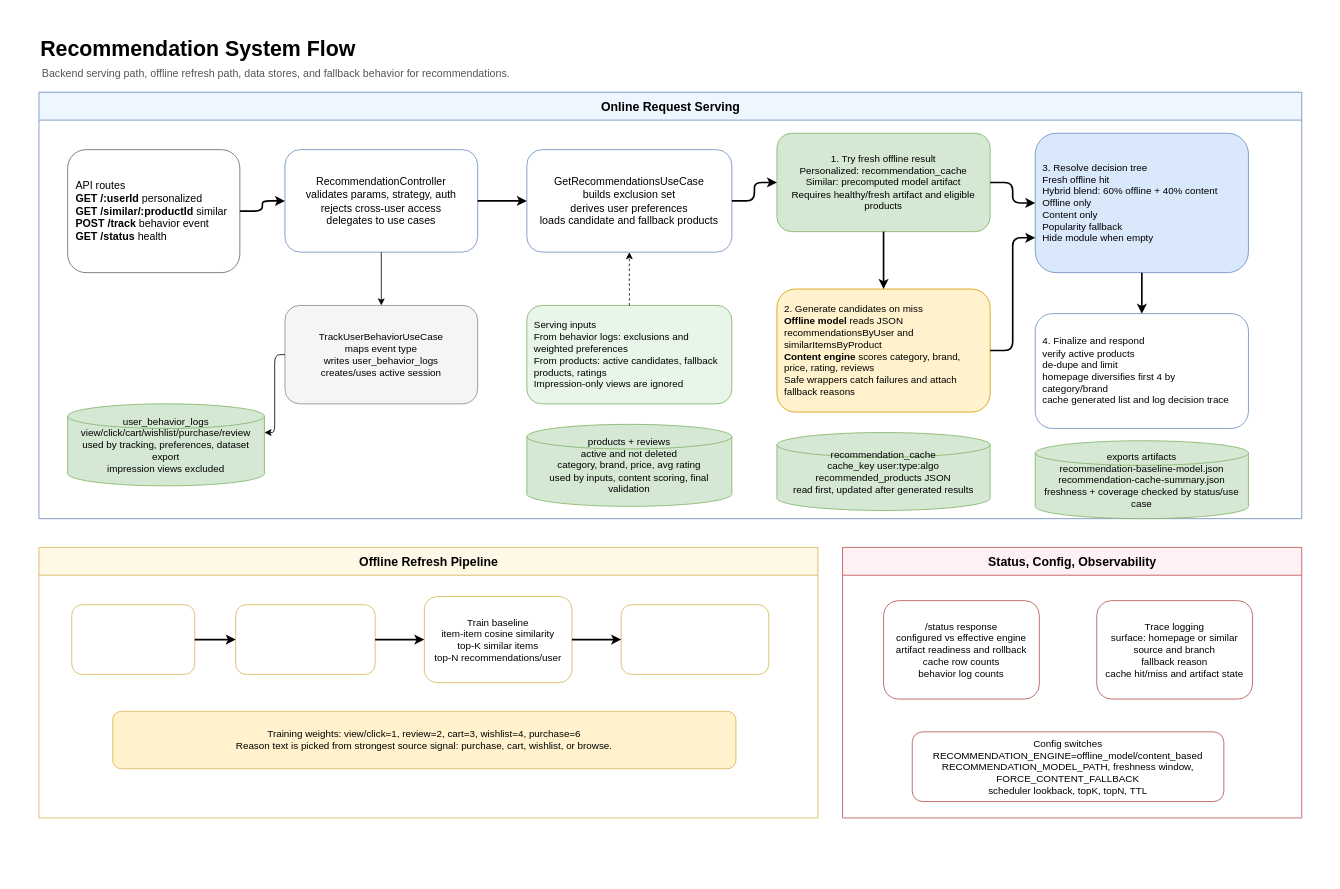
This 1340x889 diagram has some shape labels left out. Each missing label, with the centre of its shape:
Export dataset lookback 180d default weighted interactions CSV: point 305,639
Precompute cache upsert active offline_model rows write TTL/coverage summary: point 694,639
Scheduler optional interval optional runOnStart: point 133,639
